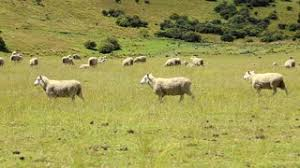sheep: (143, 74, 197, 105), (35, 77, 87, 109), (248, 71, 289, 103), (164, 56, 185, 71), (121, 55, 140, 70), (131, 53, 151, 67), (62, 52, 78, 68), (187, 55, 204, 69), (86, 55, 104, 68), (69, 49, 85, 62), (10, 51, 23, 63), (284, 59, 296, 71), (28, 56, 40, 67), (1, 54, 6, 66)
